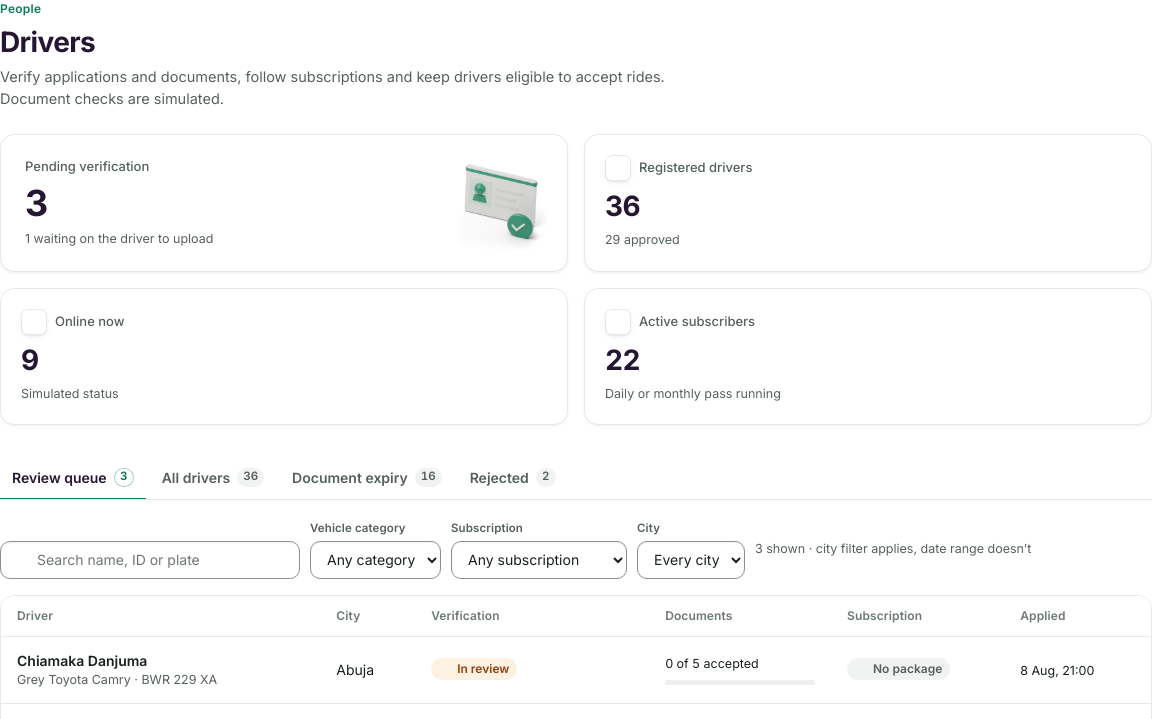
Test: driver profile sheet › hides contact details from roles without access
Click the row with class "clickable" that starts with "Chiamaka Danjuma" at {"x": 576, "y": 670}, box [1,637,1151,704]
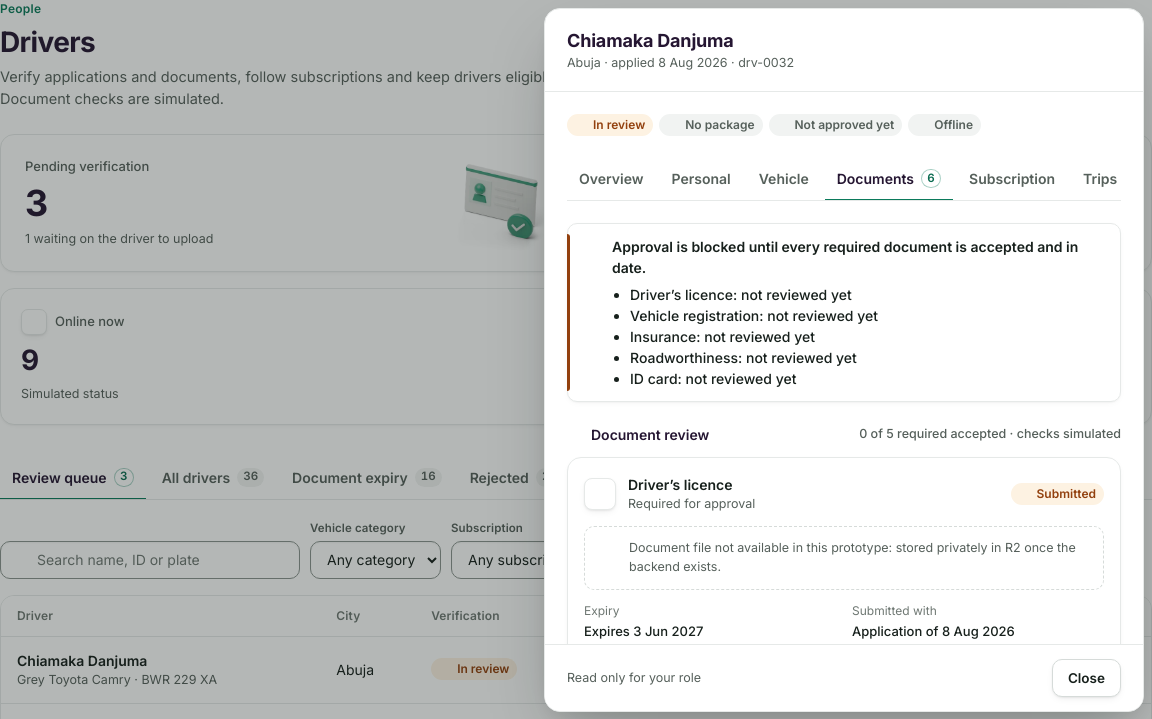
Click the tab "Personal" at {"x": 701, "y": 179}, box [660,158,743,201]
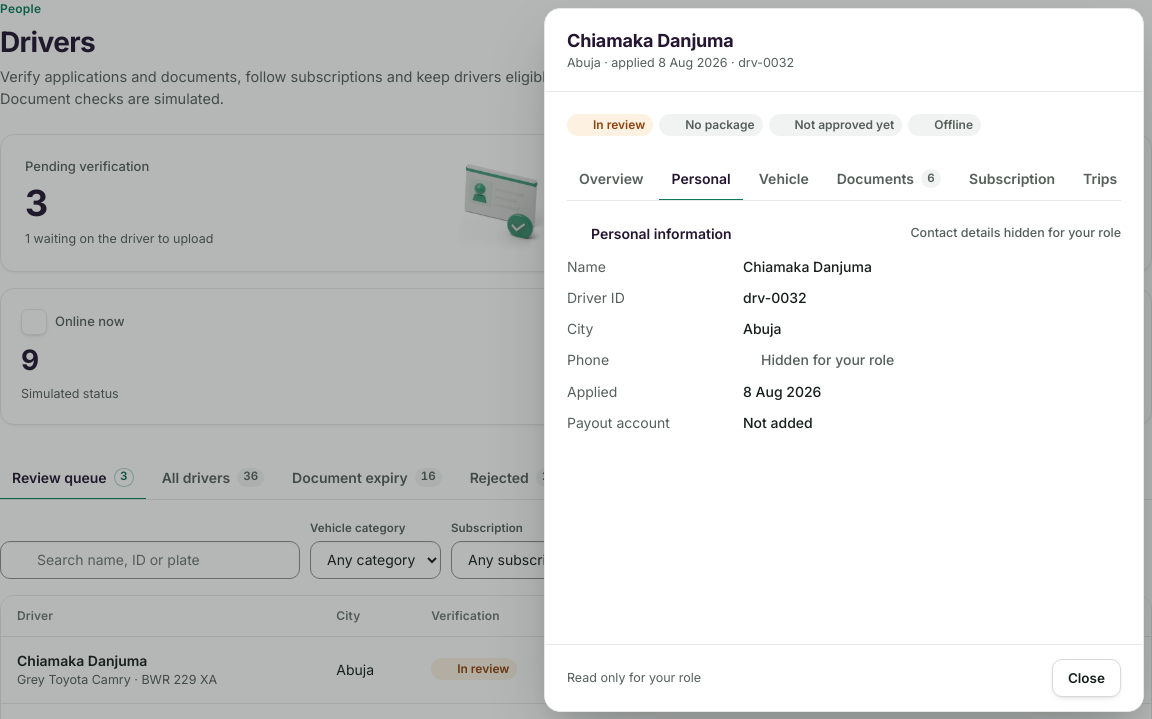
Expected: the text "Hidden for your role" is shown, [743,349,894,370]
